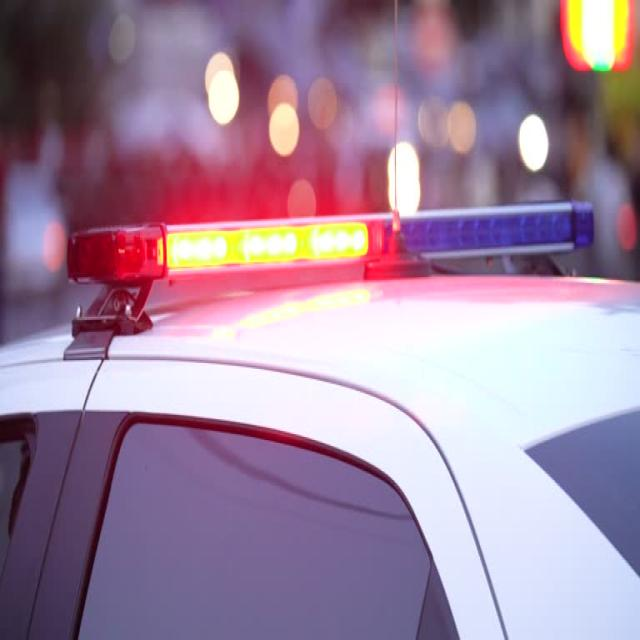emergency lights: (57, 187, 602, 312)
